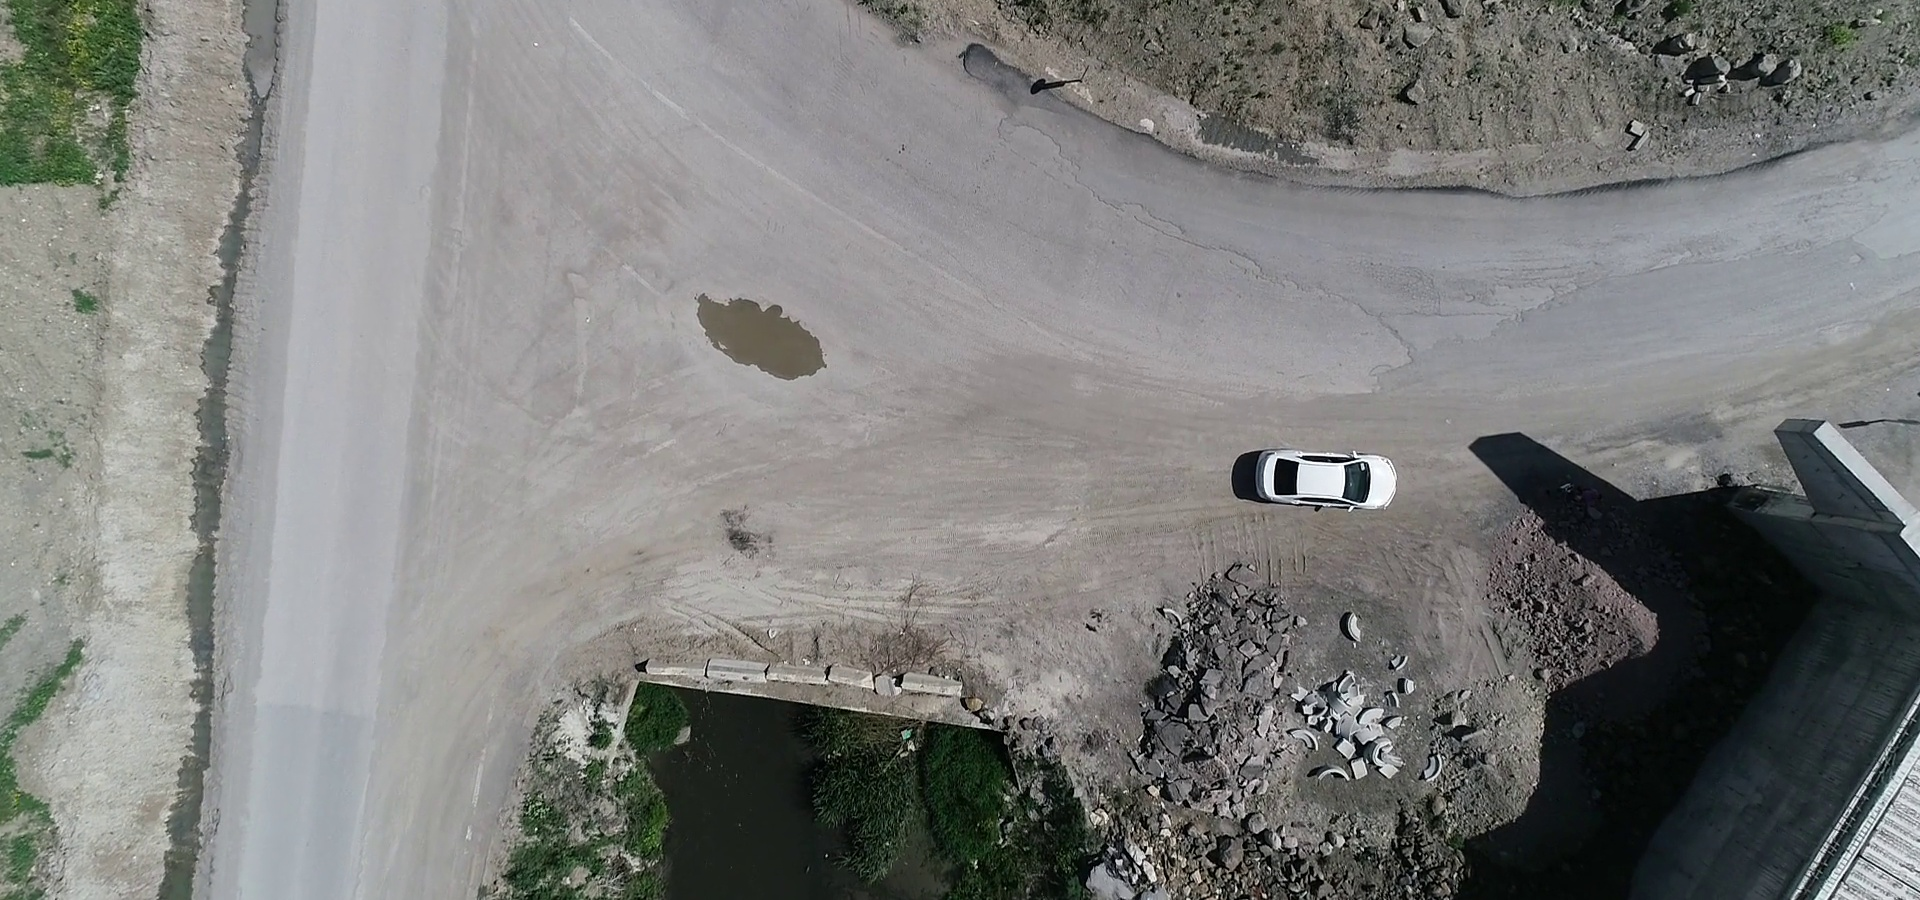arac: (1242, 435, 1412, 516)
